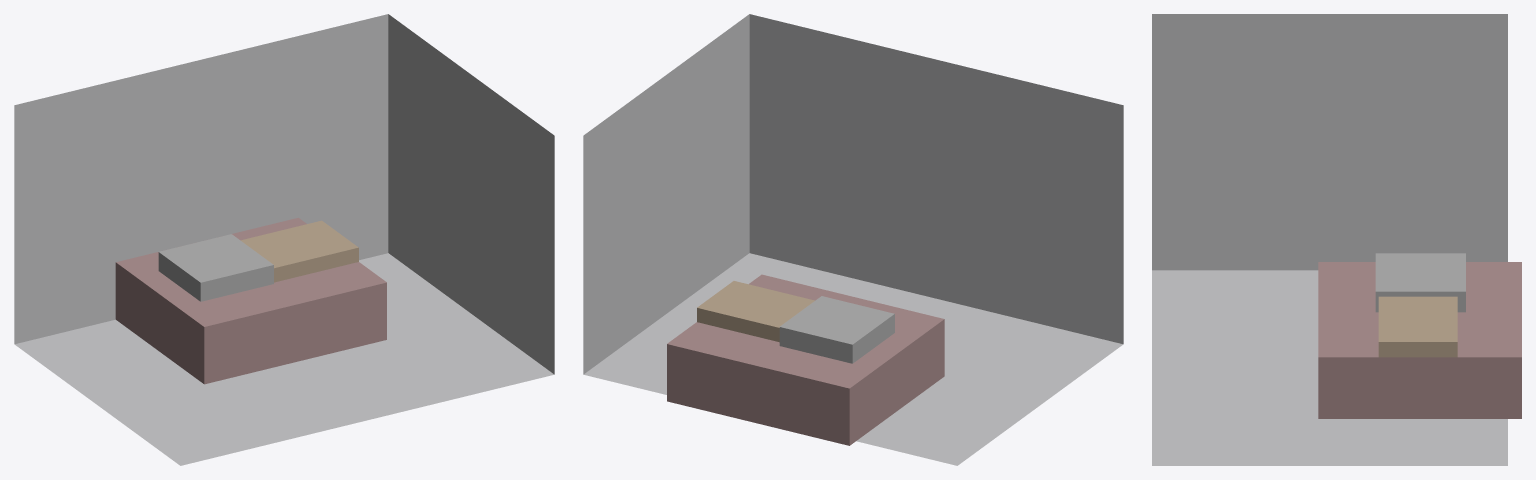
The model's file is current_layout.glb.
The picture shows the model from 3 angles, left to right: view 1: azimuth 30°, elevation 25°; view 2: azimuth 150°, elevation 25°; view 3: azimuth 270°, elevation 25°; orthographic projection. The views are drawn at different scales.
Visible parts, largest first — view 1: room, bed, wardrobe, desk; view 2: room, bed, wardrobe, desk; view 3: room, bed, desk, wardrobe.
Part boxes in pixels (x1,y1,x2,y2): room: (14, 14, 554, 465); bed: (115, 217, 386, 384); wardrobe: (158, 234, 273, 301); desk: (240, 220, 358, 282); room: (583, 14, 1123, 465); bed: (667, 274, 944, 445); wardrobe: (779, 296, 894, 363); desk: (697, 281, 814, 342); room: (1152, 14, 1507, 465); bed: (1318, 262, 1521, 418); desk: (1378, 296, 1457, 357); wardrobe: (1375, 253, 1465, 312).
Size of the model in its own units: 4.09 by 2.5 by 3.27.
